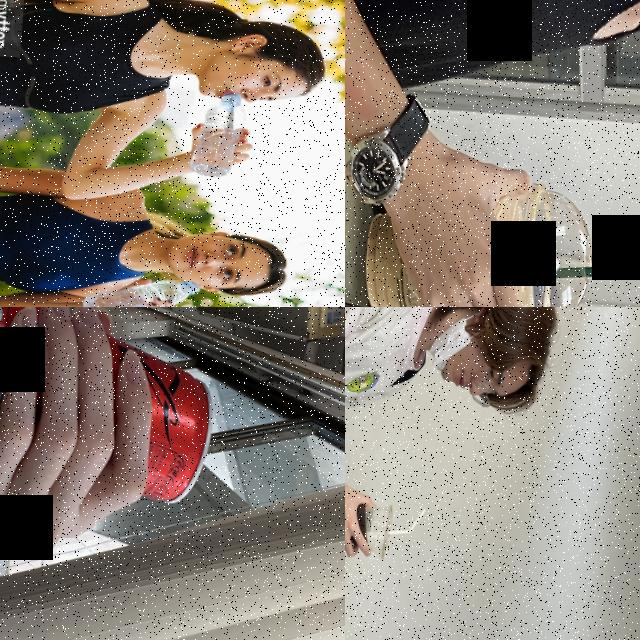bottle: (187, 90, 244, 180), (79, 269, 203, 307)
can: (0, 307, 225, 511)
cup: (358, 169, 595, 307), (348, 500, 393, 562)
